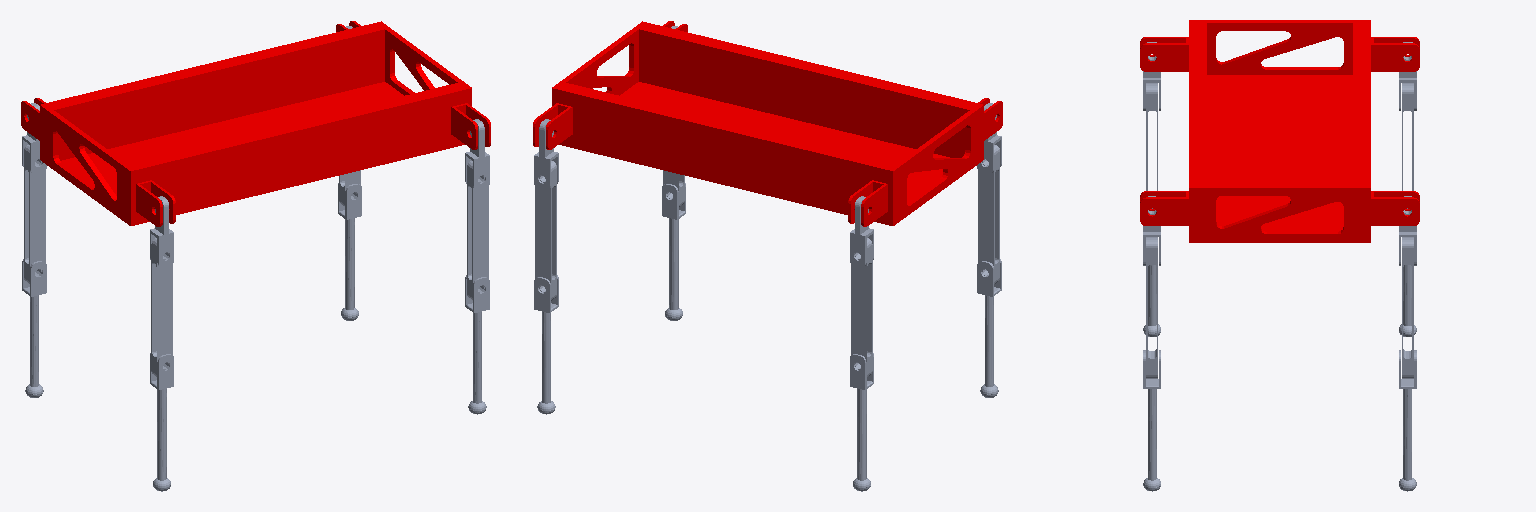
The robot description file, URDF, robot "quadroit_v1":
<?xml version="1.0" encoding="utf-8"?>
<!-- =================================================================================== -->
<!-- |    This document was autogenerated by xacro from /mnt/d/Aditya_MT/MT_Thesis/Quadruped/ROS/quadroit_ws/src/quadroit_v1/urdf/quadroitv1.urdf.xacro | -->
<!-- |    EDITING THIS FILE BY HAND IS NOT RECOMMENDED                                 | -->
<!-- =================================================================================== -->
<robot name="quadroit_v1">
  <!-- <material name="red">
        <color rgba="1 0 0 1"/>
    </material>

    <material name="white">
        <color rgba="1 1 1 1"/>
    </material> -->
  <link name="base_link">
    <contact>
      <lateral_friction value="1"/>
    </contact>
    <inertial>
      <origin rpy="0 0 0" xyz="0 0 0"/>
      <mass value="10"/>
      <inertia ixx="1.0" ixy="0.0" ixz="0.0" iyy="1.0" iyz="0.0" izz="1.0"/>
    </inertial>
    <visual>
      <origin rpy="0 0 0" xyz="0 0 0"/>
      <geometry>
        <mesh filename="meshes/base_link_torso.STL"/>
      </geometry>
      <material name="">
        <color rgba="1 0 0 1"/>
      </material>
    </visual>
    <collision>
      <origin rpy="0 0 0" xyz="0 0 0"/>
      <geometry>
        <mesh filename="meshes/base_link_torso.STL"/>
      </geometry>
    </collision>
    <!-- <xacro:default_inertial mass="10" /> -->
  </link>
  <link name="hip_link_lf">
    <contact>
      <lateral_friction value="1"/>
    </contact>
    <inertial>
      <origin rpy="0 0 0" xyz="0.04 0 0"/>
      <mass value="2"/>
      <inertia ixx="1.0" ixy="0.0" ixz="0.0" iyy="1.0" iyz="0.0" izz="1.0"/>
    </inertial>
    <visual>
      <origin rpy="0 0 0" xyz="0 0 0"/>
      <geometry>
        <mesh filename="meshes/leg_fr_hip.STL"/>
      </geometry>
      <material name="">
        <color rgba="0.66667 0.69804 0.76863 1"/>
      </material>
    </visual>
    <collision>
      <origin rpy="0 0 0" xyz="0 0 0"/>
      <geometry>
        <mesh filename="meshes/leg_fr_hip.STL"/>
      </geometry>
    </collision>
    <!-- <xacro:default_inertial mass="2"/> -->
  </link>
  <joint name="hip_joint_lf" type="revolute">
    <axis xyz="0 0 1"/>
    <limit effort="1000.0" lower="-1.57075" upper="1.57075" velocity="0.5"/>
    <parent link="base_link"/>
    <child link="hip_link_lf"/>
    <origin rpy="1.57075 1.57075 1.57075" xyz="0.3 0.21 0"/>
  </joint>
  <link name="thigh_link_lf">
    <contact>
      <lateral_friction value="1"/>
    </contact>
    <inertial>
      <origin rpy="0 0 0" xyz="0.1 0 0"/>
      <mass value="2"/>
      <inertia ixx="1.0" ixy="0.0" ixz="0.0" iyy="1.0" iyz="0.0" izz="1.0"/>
    </inertial>
    <visual>
      <origin rpy="0 0 0" xyz="0 0 0"/>
      <geometry>
        <mesh filename="meshes/leg_fr_thigh.STL"/>
      </geometry>
      <material name="">
        <color rgba="0.66667 0.69804 0.76863 1"/>
      </material>
    </visual>
    <collision>
      <origin rpy="0 0 0" xyz="0 0 0"/>
      <geometry>
        <mesh filename="meshes/leg_fr_thigh.STL"/>
      </geometry>
    </collision>
    <!-- <xacro:default_inertial mass="2"/> -->
  </link>
  <joint name="elbow_joint_lf" type="revolute">
    <axis xyz="0 0 1"/>
    <limit effort="1000.0" lower="-1.57075" upper="1.57075" velocity="0.5"/>
    <parent link="hip_link_lf"/>
    <child link="thigh_link_lf"/>
    <origin rpy="1.57075 0 0" xyz="0.08 0 0"/>
  </joint>
  <link name="shank_link_lf">
    <contact>
      <lateral_friction value="1"/>
    </contact>
    <inertial>
      <origin rpy="0 0 0" xyz="0.11 0 0"/>
      <mass value="2"/>
      <inertia ixx="1.0" ixy="0.0" ixz="0.0" iyy="1.0" iyz="0.0" izz="1.0"/>
    </inertial>
    <visual>
      <origin rpy="0 0 0" xyz="0 0 0"/>
      <geometry>
        <mesh filename="meshes/leg_fr_shank.STL"/>
      </geometry>
      <material name="">
        <color rgba="0.66667 0.69804 0.76863 1"/>
      </material>
    </visual>
    <collision>
      <origin rpy="0 0 0" xyz="0 0 0"/>
      <geometry>
        <mesh filename="meshes/leg_fr_shank.STL"/>
      </geometry>
    </collision>
    <!-- <xacro:default_inertial mass="2"/> -->
  </link>
  <joint name="wrist_joint_lf" type="revolute">
    <axis xyz="0 0 1"/>
    <limit effort="1000.0" lower="-1.57075" upper="1.57075" velocity="0.5"/>
    <parent link="thigh_link_lf"/>
    <child link="shank_link_lf"/>
    <origin rpy="0 0 0" xyz="0.2 0 0"/>
  </joint>
  <link name="foot_link_lf">
    <!-- <visual>
                <geometry>
                    <sphere radius="${foot_radius}"/>
                </geometry>
                <origin rpy="0 0 0" xyz="0 0 0"/>
                <material name="white"/>
            </visual>
            <xacro:default_inertial mass="0.2"/> -->
  </link>
  <joint name="foot_lf" type="fixed">
    <parent link="shank_link_lf"/>
    <child link="foot_link_lf"/>
    <origin xyz="0.23 0 0"/>
  </joint>
  <link name="hip_link_rf">
    <contact>
      <lateral_friction value="1"/>
    </contact>
    <inertial>
      <origin rpy="0 0 0" xyz="0.04 0 0"/>
      <mass value="2"/>
      <inertia ixx="1.0" ixy="0.0" ixz="0.0" iyy="1.0" iyz="0.0" izz="1.0"/>
    </inertial>
    <visual>
      <origin rpy="0 0 0" xyz="0 0 0"/>
      <geometry>
        <mesh filename="meshes/leg_fr_hip.STL"/>
      </geometry>
      <material name="">
        <color rgba="0.66667 0.69804 0.76863 1"/>
      </material>
    </visual>
    <collision>
      <origin rpy="0 0 0" xyz="0 0 0"/>
      <geometry>
        <mesh filename="meshes/leg_fr_hip.STL"/>
      </geometry>
    </collision>
    <!-- <xacro:default_inertial mass="2"/> -->
  </link>
  <joint name="hip_joint_rf" type="revolute">
    <axis xyz="0 0 1"/>
    <limit effort="1000.0" lower="-1.57075" upper="1.57075" velocity="0.5"/>
    <parent link="base_link"/>
    <child link="hip_link_rf"/>
    <origin rpy="1.57075 1.57075 1.57075" xyz="0.3 -0.21 0"/>
  </joint>
  <link name="thigh_link_rf">
    <contact>
      <lateral_friction value="1"/>
    </contact>
    <inertial>
      <origin rpy="0 0 0" xyz="0.1 0 0"/>
      <mass value="2"/>
      <inertia ixx="1.0" ixy="0.0" ixz="0.0" iyy="1.0" iyz="0.0" izz="1.0"/>
    </inertial>
    <visual>
      <origin rpy="0 0 0" xyz="0 0 0"/>
      <geometry>
        <mesh filename="meshes/leg_fr_thigh.STL"/>
      </geometry>
      <material name="">
        <color rgba="0.66667 0.69804 0.76863 1"/>
      </material>
    </visual>
    <collision>
      <origin rpy="0 0 0" xyz="0 0 0"/>
      <geometry>
        <mesh filename="meshes/leg_fr_thigh.STL"/>
      </geometry>
    </collision>
    <!-- <xacro:default_inertial mass="2"/> -->
  </link>
  <joint name="elbow_joint_rf" type="revolute">
    <axis xyz="0 0 1"/>
    <limit effort="1000.0" lower="-1.57075" upper="1.57075" velocity="0.5"/>
    <parent link="hip_link_rf"/>
    <child link="thigh_link_rf"/>
    <origin rpy="1.57075 0 0" xyz="0.08 0 0"/>
  </joint>
  <link name="shank_link_rf">
    <contact>
      <lateral_friction value="1"/>
    </contact>
    <inertial>
      <origin rpy="0 0 0" xyz="0.11 0 0"/>
      <mass value="2"/>
      <inertia ixx="1.0" ixy="0.0" ixz="0.0" iyy="1.0" iyz="0.0" izz="1.0"/>
    </inertial>
    <visual>
      <origin rpy="0 0 0" xyz="0 0 0"/>
      <geometry>
        <mesh filename="meshes/leg_fr_shank.STL"/>
      </geometry>
      <material name="">
        <color rgba="0.66667 0.69804 0.76863 1"/>
      </material>
    </visual>
    <collision>
      <origin rpy="0 0 0" xyz="0 0 0"/>
      <geometry>
        <mesh filename="meshes/leg_fr_shank.STL"/>
      </geometry>
    </collision>
    <!-- <xacro:default_inertial mass="2"/> -->
  </link>
  <joint name="wrist_joint_rf" type="revolute">
    <axis xyz="0 0 1"/>
    <limit effort="1000.0" lower="-1.57075" upper="1.57075" velocity="0.5"/>
    <parent link="thigh_link_rf"/>
    <child link="shank_link_rf"/>
    <origin rpy="0 0 0" xyz="0.2 0 0"/>
  </joint>
  <link name="foot_link_rf">
    <!-- <visual>
                <geometry>
                    <sphere radius="${foot_radius}"/>
                </geometry>
                <origin rpy="0 0 0" xyz="0 0 0"/>
                <material name="white"/>
            </visual>
            <xacro:default_inertial mass="0.2"/> -->
  </link>
  <joint name="foot_rf" type="fixed">
    <parent link="shank_link_rf"/>
    <child link="foot_link_rf"/>
    <origin xyz="0.23 0 0"/>
  </joint>
  <link name="hip_link_lb">
    <contact>
      <lateral_friction value="1"/>
    </contact>
    <inertial>
      <origin rpy="0 0 0" xyz="0.04 0 0"/>
      <mass value="2"/>
      <inertia ixx="1.0" ixy="0.0" ixz="0.0" iyy="1.0" iyz="0.0" izz="1.0"/>
    </inertial>
    <visual>
      <origin rpy="0 0 0" xyz="0 0 0"/>
      <geometry>
        <mesh filename="meshes/leg_fr_hip.STL"/>
      </geometry>
      <material name="">
        <color rgba="0.66667 0.69804 0.76863 1"/>
      </material>
    </visual>
    <collision>
      <origin rpy="0 0 0" xyz="0 0 0"/>
      <geometry>
        <mesh filename="meshes/leg_fr_hip.STL"/>
      </geometry>
    </collision>
    <!-- <xacro:default_inertial mass="2"/> -->
  </link>
  <joint name="hip_joint_lb" type="revolute">
    <axis xyz="0 0 1"/>
    <limit effort="1000.0" lower="-1.57075" upper="1.57075" velocity="0.5"/>
    <parent link="base_link"/>
    <child link="hip_link_lb"/>
    <origin rpy="1.57075 1.57075 1.57075" xyz="-0.3 0.21 0"/>
  </joint>
  <link name="thigh_link_lb">
    <contact>
      <lateral_friction value="1"/>
    </contact>
    <inertial>
      <origin rpy="0 0 0" xyz="0.1 0 0"/>
      <mass value="2"/>
      <inertia ixx="1.0" ixy="0.0" ixz="0.0" iyy="1.0" iyz="0.0" izz="1.0"/>
    </inertial>
    <visual>
      <origin rpy="0 0 0" xyz="0 0 0"/>
      <geometry>
        <mesh filename="meshes/leg_fr_thigh.STL"/>
      </geometry>
      <material name="">
        <color rgba="0.66667 0.69804 0.76863 1"/>
      </material>
    </visual>
    <collision>
      <origin rpy="0 0 0" xyz="0 0 0"/>
      <geometry>
        <mesh filename="meshes/leg_fr_thigh.STL"/>
      </geometry>
    </collision>
    <!-- <xacro:default_inertial mass="2"/> -->
  </link>
  <joint name="elbow_joint_lb" type="revolute">
    <axis xyz="0 0 1"/>
    <limit effort="1000.0" lower="-1.57075" upper="1.57075" velocity="0.5"/>
    <parent link="hip_link_lb"/>
    <child link="thigh_link_lb"/>
    <origin rpy="1.57075 0 0" xyz="0.08 0 0"/>
  </joint>
  <link name="shank_link_lb">
    <contact>
      <lateral_friction value="1"/>
    </contact>
    <inertial>
      <origin rpy="0 0 0" xyz="0.11 0 0"/>
      <mass value="2"/>
      <inertia ixx="1.0" ixy="0.0" ixz="0.0" iyy="1.0" iyz="0.0" izz="1.0"/>
    </inertial>
    <visual>
      <origin rpy="0 0 0" xyz="0 0 0"/>
      <geometry>
        <mesh filename="meshes/leg_fr_shank.STL"/>
      </geometry>
      <material name="">
        <color rgba="0.66667 0.69804 0.76863 1"/>
      </material>
    </visual>
    <collision>
      <origin rpy="0 0 0" xyz="0 0 0"/>
      <geometry>
        <mesh filename="meshes/leg_fr_shank.STL"/>
      </geometry>
    </collision>
    <!-- <xacro:default_inertial mass="2"/> -->
  </link>
  <joint name="wrist_joint_lb" type="revolute">
    <axis xyz="0 0 1"/>
    <limit effort="1000.0" lower="-1.57075" upper="1.57075" velocity="0.5"/>
    <parent link="thigh_link_lb"/>
    <child link="shank_link_lb"/>
    <origin rpy="0 0 0" xyz="0.2 0 0"/>
  </joint>
  <link name="foot_link_lb">
    <!-- <visual>
                <geometry>
                    <sphere radius="${foot_radius}"/>
                </geometry>
                <origin rpy="0 0 0" xyz="0 0 0"/>
                <material name="white"/>
            </visual>
            <xacro:default_inertial mass="0.2"/> -->
  </link>
  <joint name="foot_lb" type="fixed">
    <parent link="shank_link_lb"/>
    <child link="foot_link_lb"/>
    <origin xyz="0.23 0 0"/>
  </joint>
  <link name="hip_link_rb">
    <contact>
      <lateral_friction value="1"/>
    </contact>
    <inertial>
      <origin rpy="0 0 0" xyz="0.04 0 0"/>
      <mass value="2"/>
      <inertia ixx="1.0" ixy="0.0" ixz="0.0" iyy="1.0" iyz="0.0" izz="1.0"/>
    </inertial>
    <visual>
      <origin rpy="0 0 0" xyz="0 0 0"/>
      <geometry>
        <mesh filename="meshes/leg_fr_hip.STL"/>
      </geometry>
      <material name="">
        <color rgba="0.66667 0.69804 0.76863 1"/>
      </material>
    </visual>
    <collision>
      <origin rpy="0 0 0" xyz="0 0 0"/>
      <geometry>
        <mesh filename="meshes/leg_fr_hip.STL"/>
      </geometry>
    </collision>
    <!-- <xacro:default_inertial mass="2"/> -->
  </link>
  <joint name="hip_joint_rb" type="revolute">
    <axis xyz="0 0 1"/>
    <limit effort="1000.0" lower="-1.57075" upper="1.57075" velocity="0.5"/>
    <parent link="base_link"/>
    <child link="hip_link_rb"/>
    <origin rpy="1.57075 1.57075 1.57075" xyz="-0.3 -0.21 0"/>
  </joint>
  <link name="thigh_link_rb">
    <contact>
      <lateral_friction value="1"/>
    </contact>
    <inertial>
      <origin rpy="0 0 0" xyz="0.1 0 0"/>
      <mass value="2"/>
      <inertia ixx="1.0" ixy="0.0" ixz="0.0" iyy="1.0" iyz="0.0" izz="1.0"/>
    </inertial>
    <visual>
      <origin rpy="0 0 0" xyz="0 0 0"/>
      <geometry>
        <mesh filename="meshes/leg_fr_thigh.STL"/>
      </geometry>
      <material name="">
        <color rgba="0.66667 0.69804 0.76863 1"/>
      </material>
    </visual>
    <collision>
      <origin rpy="0 0 0" xyz="0 0 0"/>
      <geometry>
        <mesh filename="meshes/leg_fr_thigh.STL"/>
      </geometry>
    </collision>
    <!-- <xacro:default_inertial mass="2"/> -->
  </link>
  <joint name="elbow_joint_rb" type="revolute">
    <axis xyz="0 0 1"/>
    <limit effort="1000.0" lower="-1.57075" upper="1.57075" velocity="0.5"/>
    <parent link="hip_link_rb"/>
    <child link="thigh_link_rb"/>
    <origin rpy="1.57075 0 0" xyz="0.08 0 0"/>
  </joint>
  <link name="shank_link_rb">
    <contact>
      <lateral_friction value="1"/>
    </contact>
    <inertial>
      <origin rpy="0 0 0" xyz="0.11 0 0"/>
      <mass value="2"/>
      <inertia ixx="1.0" ixy="0.0" ixz="0.0" iyy="1.0" iyz="0.0" izz="1.0"/>
    </inertial>
    <visual>
      <origin rpy="0 0 0" xyz="0 0 0"/>
      <geometry>
        <mesh filename="meshes/leg_fr_shank.STL"/>
      </geometry>
      <material name="">
        <color rgba="0.66667 0.69804 0.76863 1"/>
      </material>
    </visual>
    <collision>
      <origin rpy="0 0 0" xyz="0 0 0"/>
      <geometry>
        <mesh filename="meshes/leg_fr_shank.STL"/>
      </geometry>
    </collision>
    <!-- <xacro:default_inertial mass="2"/> -->
  </link>
  <joint name="wrist_joint_rb" type="revolute">
    <axis xyz="0 0 1"/>
    <limit effort="1000.0" lower="-1.57075" upper="1.57075" velocity="0.5"/>
    <parent link="thigh_link_rb"/>
    <child link="shank_link_rb"/>
    <origin rpy="0 0 0" xyz="0.2 0 0"/>
  </joint>
  <link name="foot_link_rb">
    <!-- <visual>
                <geometry>
                    <sphere radius="${foot_radius}"/>
                </geometry>
                <origin rpy="0 0 0" xyz="0 0 0"/>
                <material name="white"/>
            </visual>
            <xacro:default_inertial mass="0.2"/> -->
  </link>
  <joint name="foot_rb" type="fixed">
    <parent link="shank_link_rb"/>
    <child link="foot_link_rb"/>
    <origin xyz="0.23 0 0"/>
  </joint>
</robot>

--- Facts derived from the render (not from the file) ---
3 views of the same robot in one strip: view 1: azimuth 30°, elevation 25°; view 2: azimuth 150°, elevation 25°; view 3: azimuth 270°, elevation 25° (orthographic).
Model quadroit_v1 with 17 links and 16 joints (12 revolute, 4 fixed), rooted at base_link, posed every joint at zero.
Links seen in each view (by area): view 1: base_link, thigh_link_rf, thigh_link_lb, thigh_link_rb, shank_link_rb, shank_link_lf, shank_link_lb, shank_link_rf, hip_link_rf, hip_link_rb, hip_link_lb; view 2: base_link, thigh_link_lf, thigh_link_rb, thigh_link_lb, shank_link_lb, shank_link_rf, shank_link_rb, shank_link_lf, hip_link_lf, hip_link_lb, hip_link_rb; view 3: base_link, shank_link_lf, shank_link_rf, thigh_link_lf, thigh_link_rf, shank_link_rb, shank_link_lb, thigh_link_lb, thigh_link_rb.
Link boxes in pixels (x1=…): base_link: x1=21, y1=21, x2=490, y2=226; thigh_link_rf: x1=467, y1=161, x2=488, y2=300; thigh_link_lb: x1=24, y1=145, x2=45, y2=283; thigh_link_rb: x1=151, y1=238, x2=172, y2=376; shank_link_rb: x1=150, y1=353, x2=173, y2=491; shank_link_lf: x1=338, y1=183, x2=361, y2=320; shank_link_lb: x1=22, y1=259, x2=46, y2=397; shank_link_rf: x1=465, y1=275, x2=489, y2=414; hip_link_rf: x1=465, y1=119, x2=489, y2=190; hip_link_rb: x1=150, y1=196, x2=173, y2=267; hip_link_lb: x1=22, y1=103, x2=46, y2=174; base_link: x1=533, y1=21, x2=1002, y2=226; thigh_link_lf: x1=535, y1=161, x2=556, y2=300; thigh_link_rb: x1=978, y1=145, x2=999, y2=283; thigh_link_lb: x1=851, y1=238, x2=872, y2=376; shank_link_lb: x1=850, y1=353, x2=873, y2=491; shank_link_rf: x1=662, y1=183, x2=685, y2=320; shank_link_rb: x1=977, y1=259, x2=1001, y2=397; shank_link_lf: x1=534, y1=275, x2=558, y2=414; hip_link_lf: x1=534, y1=119, x2=558, y2=190; hip_link_lb: x1=850, y1=196, x2=873, y2=267; hip_link_rb: x1=977, y1=103, x2=1001, y2=174; base_link: x1=1140, y1=20, x2=1419, y2=242; shank_link_lf: x1=1399, y1=350, x2=1416, y2=491; shank_link_rf: x1=1143, y1=350, x2=1160, y2=491; thigh_link_lf: x1=1402, y1=237, x2=1413, y2=378; thigh_link_rf: x1=1146, y1=237, x2=1157, y2=378; shank_link_rb: x1=1143, y1=265, x2=1160, y2=336; shank_link_lb: x1=1399, y1=265, x2=1416, y2=336; thigh_link_lb: x1=1402, y1=83, x2=1413, y2=208; thigh_link_rb: x1=1146, y1=83, x2=1157, y2=208.
Bounding box of the posed robot: 0.65 × 0.46 × 0.56 m (x, y, z).
13 mesh visuals loaded from 4 distinct referenced files (4 binary STL).
